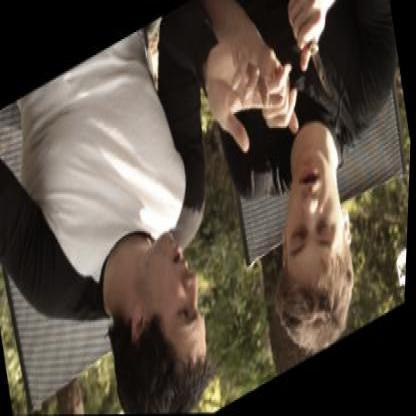knife: (278, 0, 350, 121)
